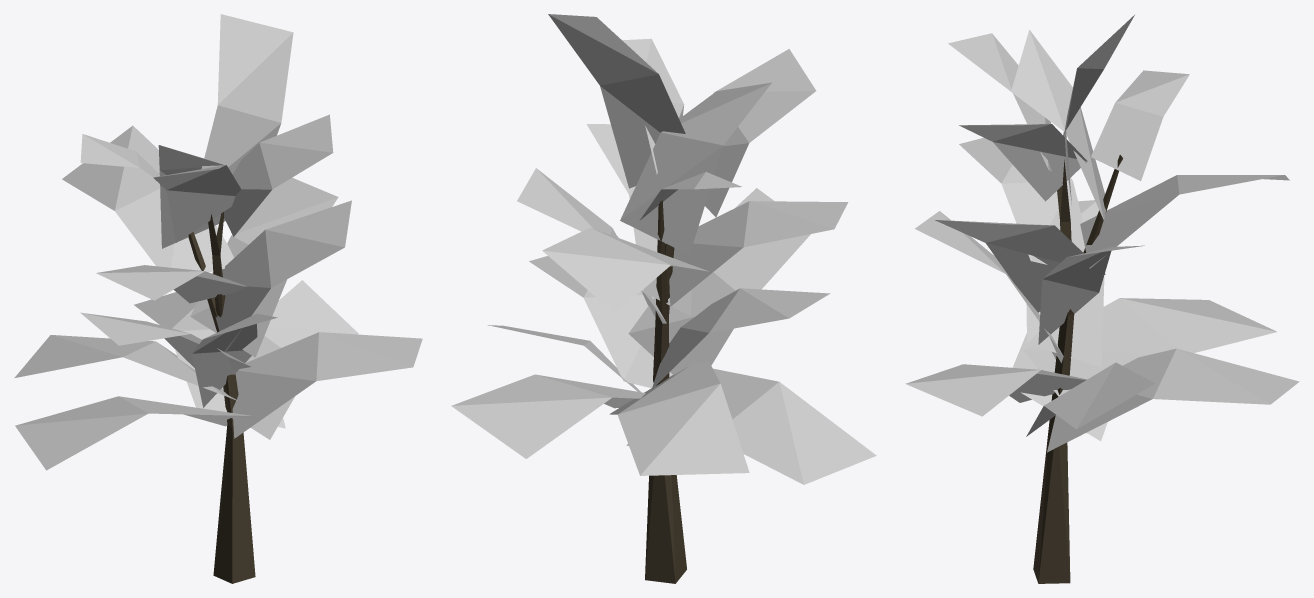
Rendered from ADDON_PLANTS_JUNGLETREE_02_163P.OBJ.
The picture shows the model from 3 angles, left to right: view 1: azimuth 30°, elevation 25°; view 2: azimuth 150°, elevation 25°; view 3: azimuth 270°, elevation 25°; orthographic projection. The views are drawn at different scales.
Parts seen in each view (by area): view 1: ADDON_PLANTS_JUNGLETREE_02_163P; view 2: ADDON_PLANTS_JUNGLETREE_02_163P; view 3: ADDON_PLANTS_JUNGLETREE_02_163P.
Part boxes in pixels (bbox=[...]): ADDON_PLANTS_JUNGLETREE_02_163P: bbox=[14, 14, 422, 583]; ADDON_PLANTS_JUNGLETREE_02_163P: bbox=[451, 14, 876, 583]; ADDON_PLANTS_JUNGLETREE_02_163P: bbox=[905, 15, 1299, 583].
Bounding box in the file's own units: 8.16 × 11.93 × 7.4.
